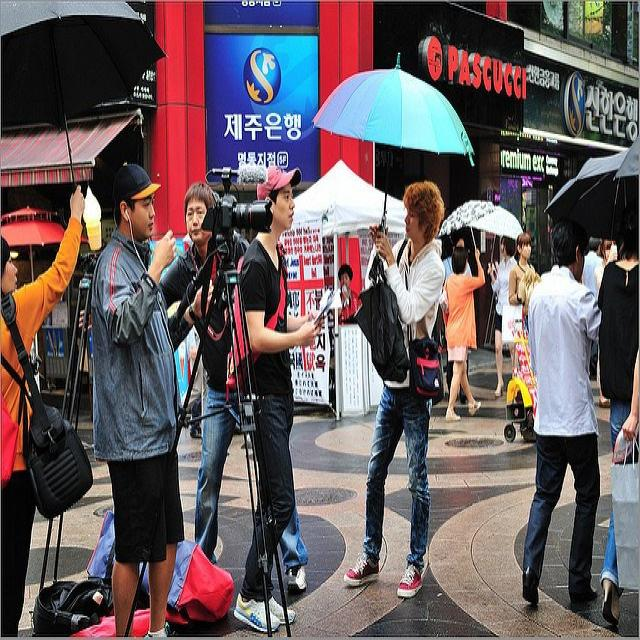body: (154, 179, 310, 595), (90, 161, 218, 640), (220, 160, 327, 637), (339, 178, 448, 602), (0, 176, 96, 639), (519, 211, 603, 610), (597, 205, 640, 628), (440, 243, 486, 423), (441, 234, 474, 406), (486, 235, 518, 399), (501, 230, 542, 345), (594, 236, 619, 409), (579, 233, 606, 387), (181, 322, 204, 441), (329, 262, 364, 325), (621, 344, 638, 442), (530, 205, 553, 265), (581, 227, 607, 271), (495, 226, 521, 265), (175, 229, 197, 259)
